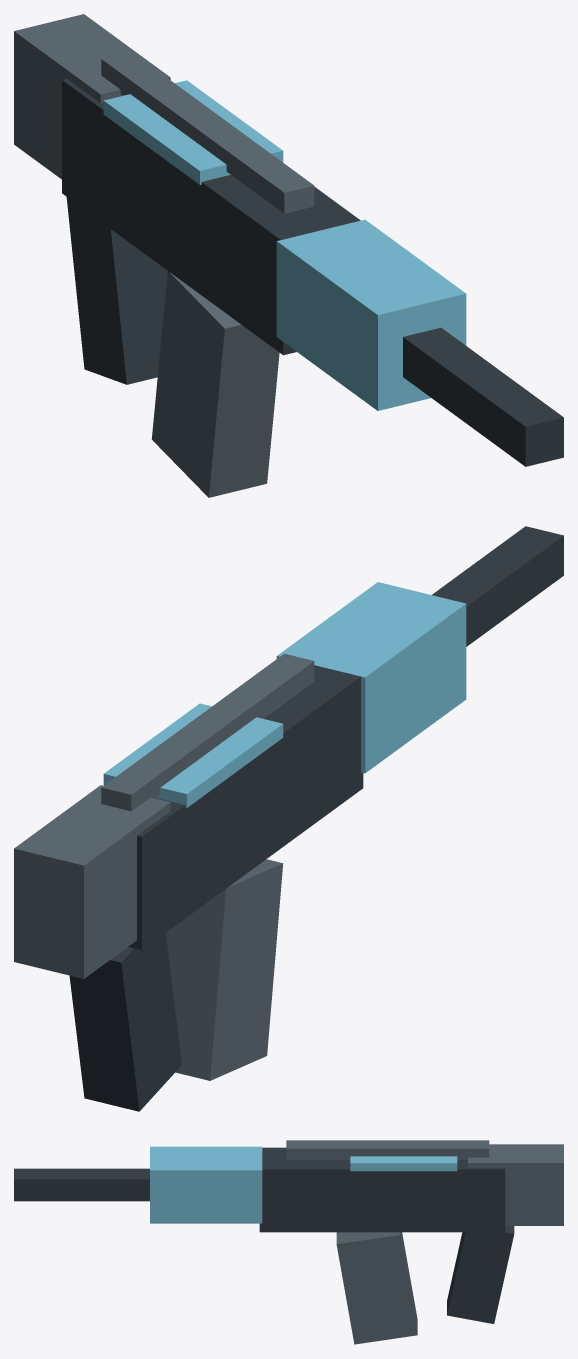
Rendered from qi_rifle.glb.
3 renders of one model, top to bottom at view 1: azimuth 30°, elevation 25°; view 2: azimuth 150°, elevation 25°; view 3: azimuth 270°, elevation 25°, orthographic. The views are drawn at different scales.
Parts seen in each view (by area): view 1: QiRifle; view 2: QiRifle; view 3: QiRifle.
Part boxes in pixels (x1,y1,x2,y2): QiRifle: [14, 14, 563, 497]; QiRifle: [14, 526, 563, 1111]; QiRifle: [14, 1140, 563, 1344].
Size of the model in its own units: 0.053 by 0.1986 by 0.515.
